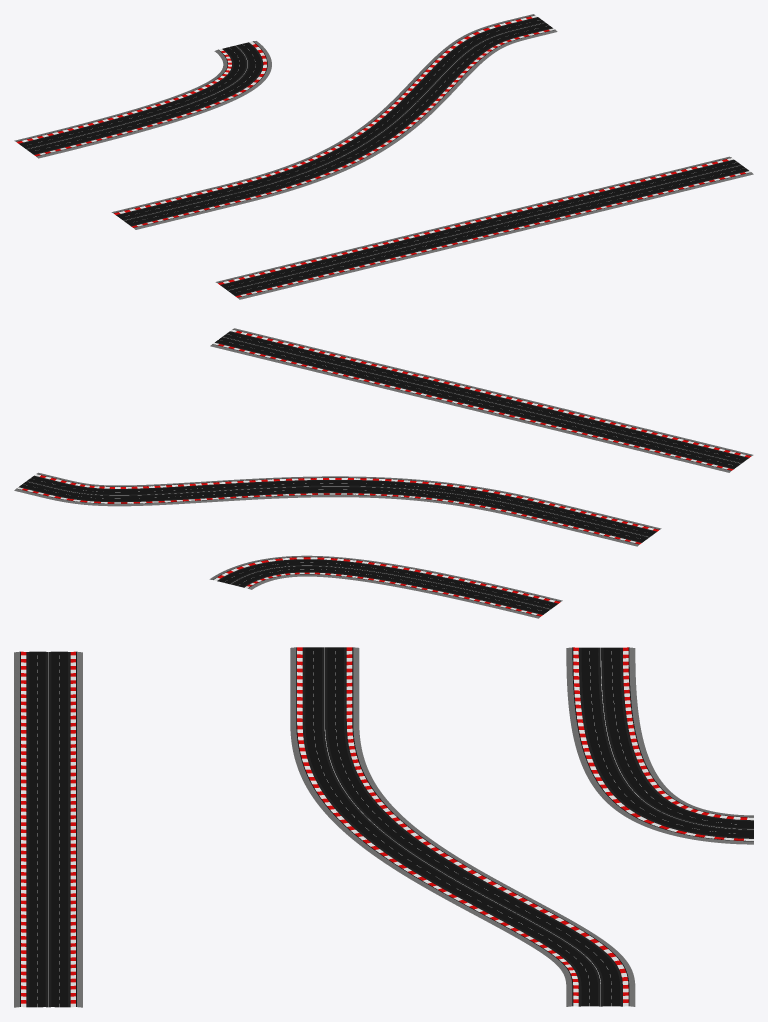
File: S0.1c3-3c2-2l1-triway.glb
3 views of the same model, one above another, from view 1: azimuth 30°, elevation 25°; view 2: azimuth 150°, elevation 25°; view 3: azimuth 270°, elevation 25° (orthographic). The views are drawn at different scales.
Parts seen in each view (by area): view 1: Grid.001, Grid, Grid.002; view 2: Grid.001, Grid, Grid.002; view 3: Grid.001, Grid, Grid.002.
Boxes of the visible parts, bbox=[...] form: Grid.001: bbox=[111, 14, 557, 229]; Grid: bbox=[215, 156, 753, 299]; Grid.002: bbox=[14, 41, 271, 158]; Grid.001: bbox=[14, 472, 661, 546]; Grid: bbox=[210, 328, 753, 472]; Grid.002: bbox=[209, 555, 562, 618]; Grid.001: bbox=[290, 647, 635, 1006]; Grid: bbox=[14, 651, 82, 1007]; Grid.002: bbox=[566, 647, 753, 844].
Bounding box in the file's own units: 308 × 0.31 × 268.
